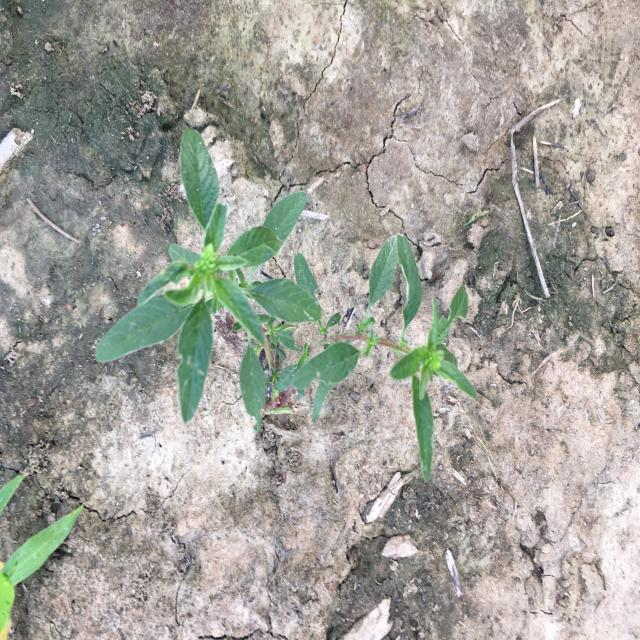Waterhemp: (94, 126, 478, 485)
